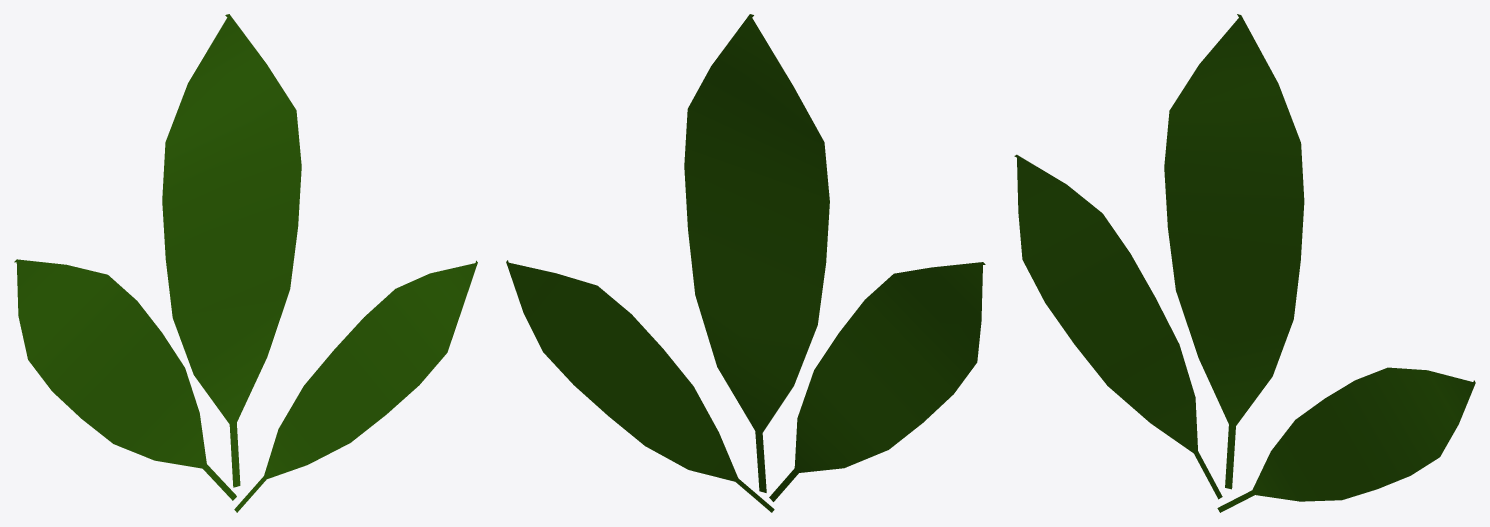
The model's file is leaves.gltf.
3 renders of one model, left to right at view 1: azimuth 30°, elevation 25°; view 2: azimuth 150°, elevation 25°; view 3: azimuth 330°, elevation 25°, orthographic. The views are drawn at different scales.
Parts seen in each view (by area): view 1: Plane.002; view 2: Plane.002; view 3: Plane.002.
Boxes of the visible parts, <box> form: Plane.002: <box>14,14,477,512</box>; Plane.002: <box>506,14,985,512</box>; Plane.002: <box>1014,14,1475,512</box>.
Bounding box in the file's own units: 1.15 × 1.16 × 0.0619.
